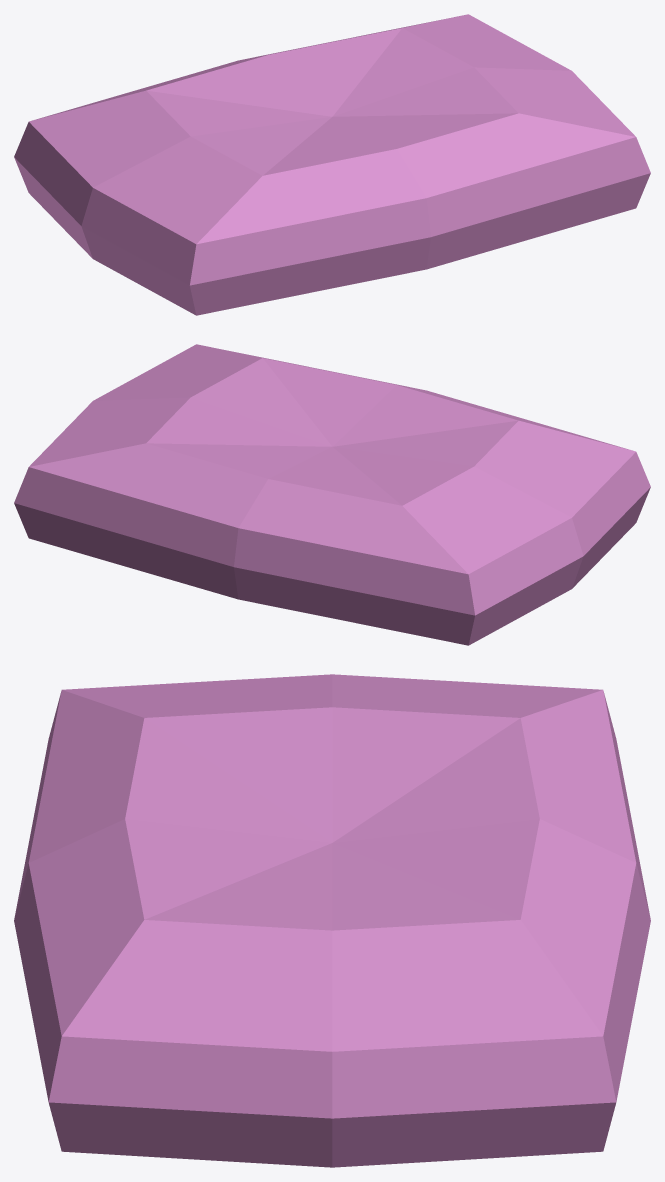
The model's file is Itr_Bed_Pillow_14.FBX.
3 views of the same model, one above another, from view 1: azimuth 30°, elevation 25°; view 2: azimuth 150°, elevation 25°; view 3: azimuth 270°, elevation 25° (orthographic). The views are drawn at different scales.
Visible parts, largest first — view 1: Itr_Bed_Pillow_14; view 2: Itr_Bed_Pillow_14; view 3: Itr_Bed_Pillow_14.
Part boxes in pixels (x1=…): Itr_Bed_Pillow_14: x1=14, y1=14, x2=650, y2=315; Itr_Bed_Pillow_14: x1=14, y1=344, x2=650, y2=645; Itr_Bed_Pillow_14: x1=14, y1=674, x2=650, y2=1167.
Bounding box in the file's own units: 21.39 × 4.03 × 14.55.
